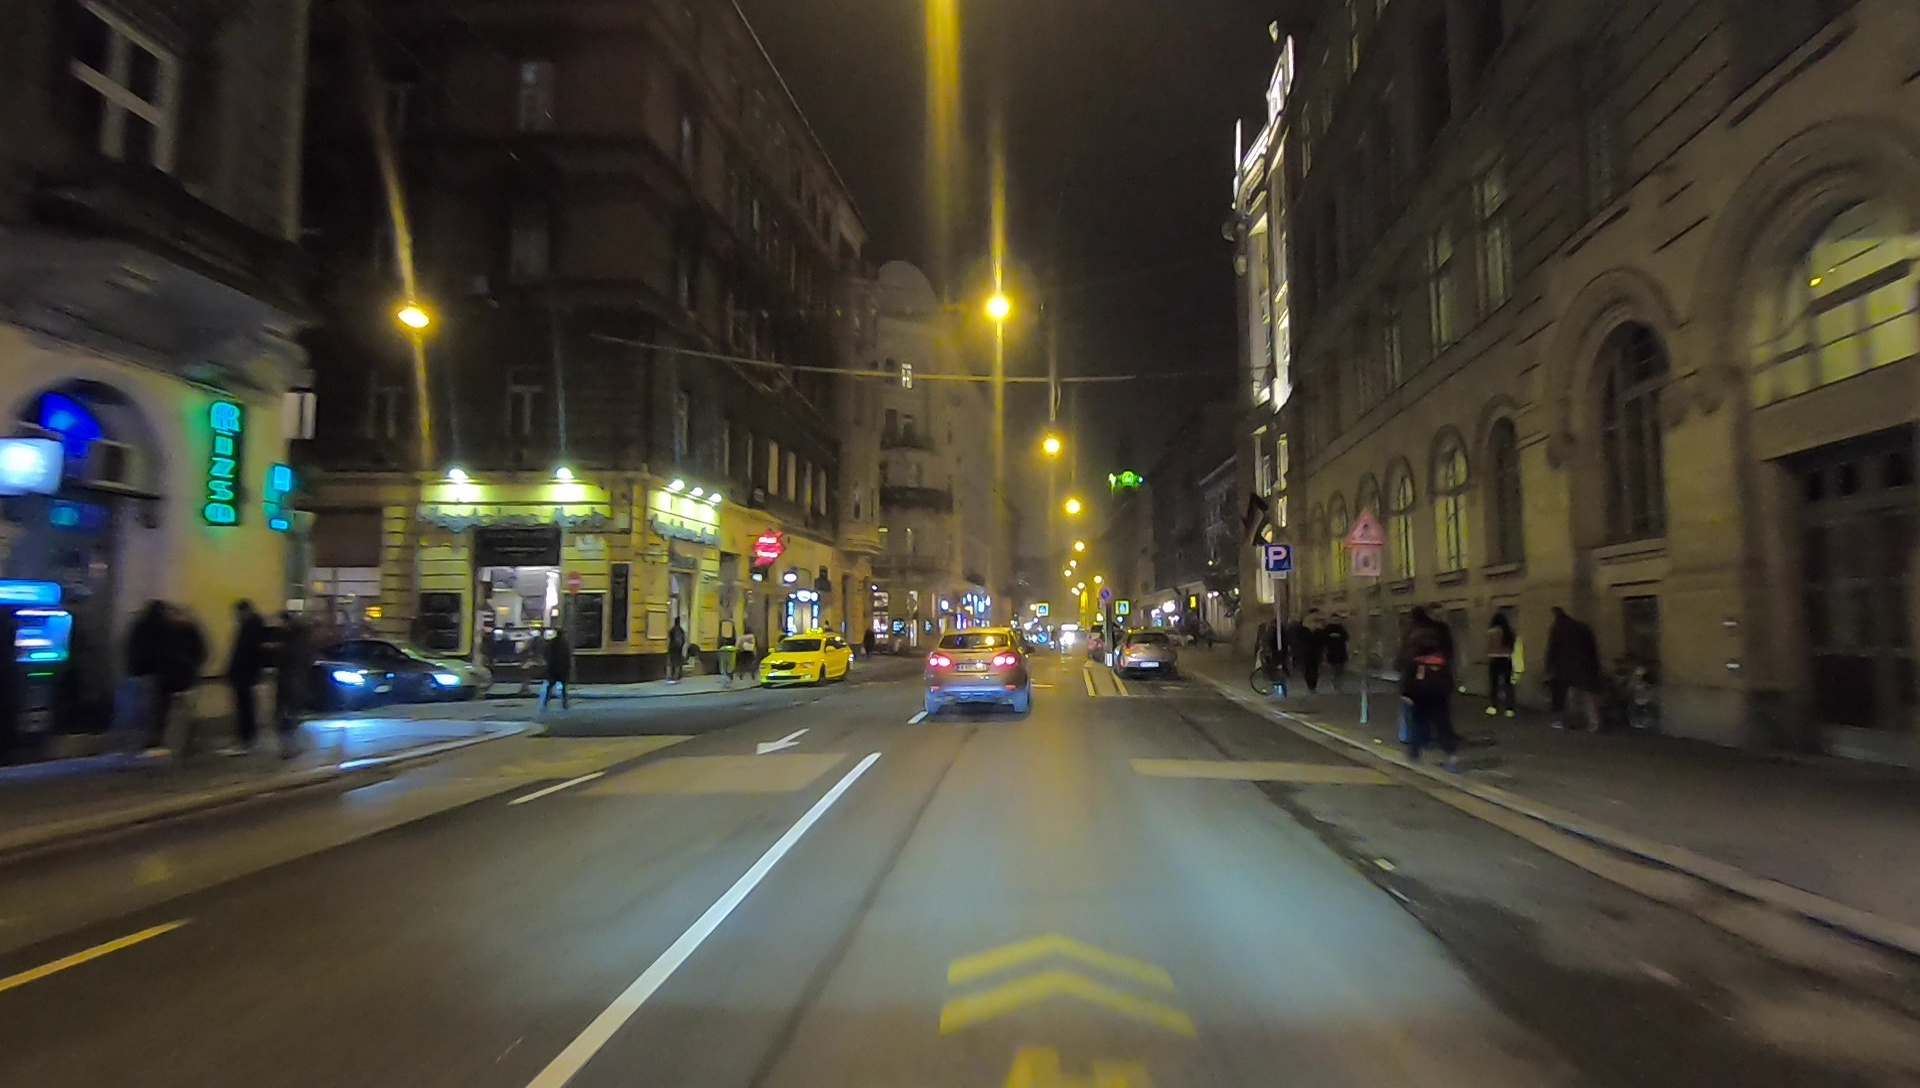person: (1397, 605, 1458, 764), (1546, 608, 1605, 738), (271, 605, 318, 763), (221, 596, 263, 757), (126, 602, 163, 761), (162, 607, 201, 760), (1485, 610, 1516, 716), (540, 627, 577, 713), (1301, 608, 1324, 689), (1327, 616, 1347, 685), (740, 624, 758, 683), (666, 617, 683, 675), (862, 625, 877, 660)
